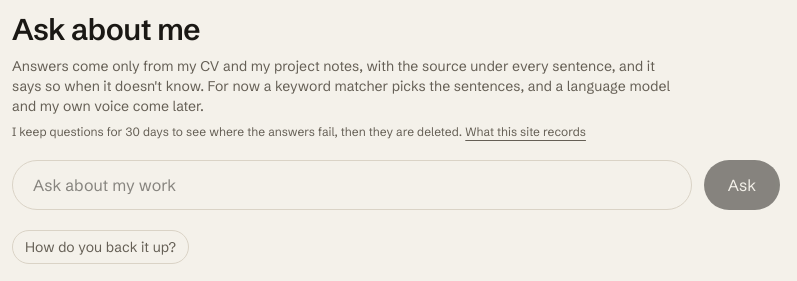
Ask › asks a suggested question with one click
Click the button "How do you back it up?". click: (100, 247)
box: [12, 230, 189, 264]
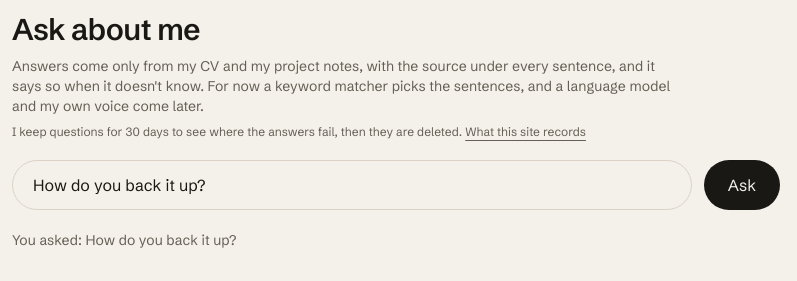
Result: the text "You asked: How do you back it up?" is shown at [12, 231, 236, 249]
